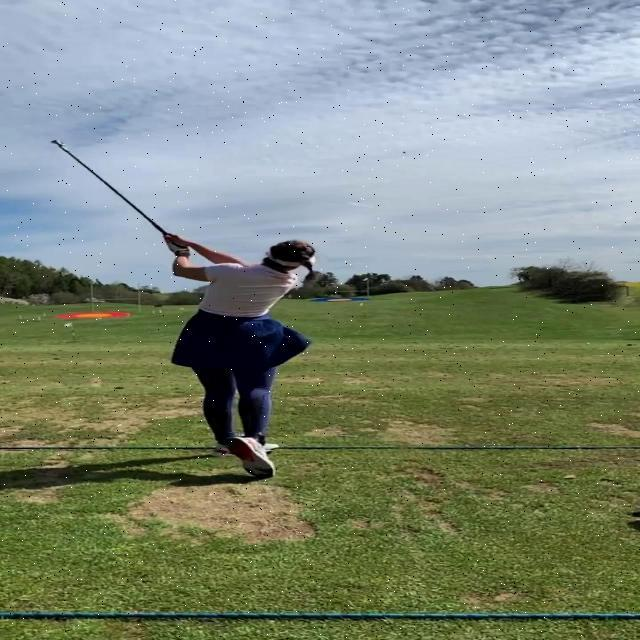golf club-handle: (50, 140, 168, 235)
golf club-head: (50, 141, 66, 147)
